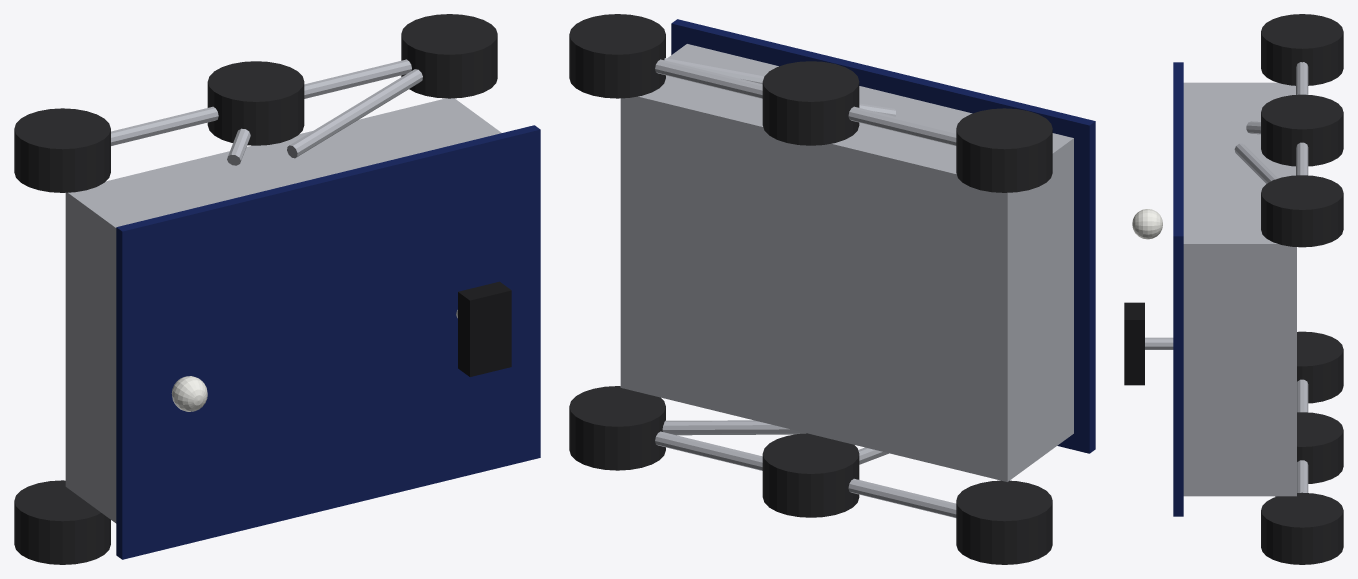
File: rover.obj
3 renders of one model, left to right at view 1: azimuth 30°, elevation 25°; view 2: azimuth 150°, elevation 25°; view 3: azimuth 270°, elevation 25°, orthographic. The views are drawn at different scales.
Parts seen in each view (by area): view 1: solar_panel_top, chassis, wheel_FL, wheel_ML, wheel_RL, wheel_FR, camera_head, rocker_bogie_axle, rocker_link_front, antenna; view 2: chassis, solar_panel_top, wheel_FL, wheel_FR, wheel_ML, wheel_RL, wheel_MR, wheel_RR, rocker_bogie_axle, rocker_link_front; view 3: chassis, wheel_RL, wheel_RR, wheel_ML, wheel_FL, solar_panel_top, wheel_MR, wheel_FR, camera_head, rocker_bogie_axle, antenna, rocker_link_front (+1 smaller).
Part boxes in pixels (box(x1,y1,x2,y2)): solar_panel_top: box(116, 125, 540, 559); chassis: box(65, 98, 501, 523); wheel_FL: box(14, 108, 110, 192); wheel_ML: box(207, 61, 304, 145); wheel_RL: box(401, 14, 497, 98); wheel_FR: box(14, 480, 110, 564); camera_head: box(458, 281, 511, 376); rocker_bogie_axle: box(111, 59, 411, 145); rocker_link_front: box(287, 69, 422, 158); antenna: box(171, 376, 207, 411); chassis: box(620, 44, 1073, 481); solar_panel_top: box(671, 19, 1095, 453); wheel_FL: box(956, 108, 1052, 192); wheel_FR: box(956, 480, 1052, 564); wheel_ML: box(762, 61, 859, 145); wheel_RL: box(569, 14, 665, 98); wheel_MR: box(762, 433, 859, 517); wheel_RR: box(569, 386, 665, 470); rocker_bogie_axle: box(655, 59, 956, 517); rocker_link_front: box(662, 58, 806, 435); chassis: box(1183, 82, 1296, 496); wheel_RL: box(1261, 175, 1343, 247); wheel_RR: box(1261, 492, 1343, 564); wheel_ML: box(1261, 94, 1343, 166); wheel_FL: box(1261, 14, 1343, 85); solar_panel_top: box(1173, 62, 1183, 516); wheel_MR: box(1297, 412, 1343, 483); wheel_FR: box(1297, 331, 1343, 403); camera_head: box(1124, 302, 1144, 385); rocker_bogie_axle: box(1296, 62, 1308, 492); antenna: box(1132, 209, 1162, 239); rocker_link_front: box(1234, 143, 1277, 496).
Bounding box in the file's own units: 0.9 × 0.76 × 0.425.
